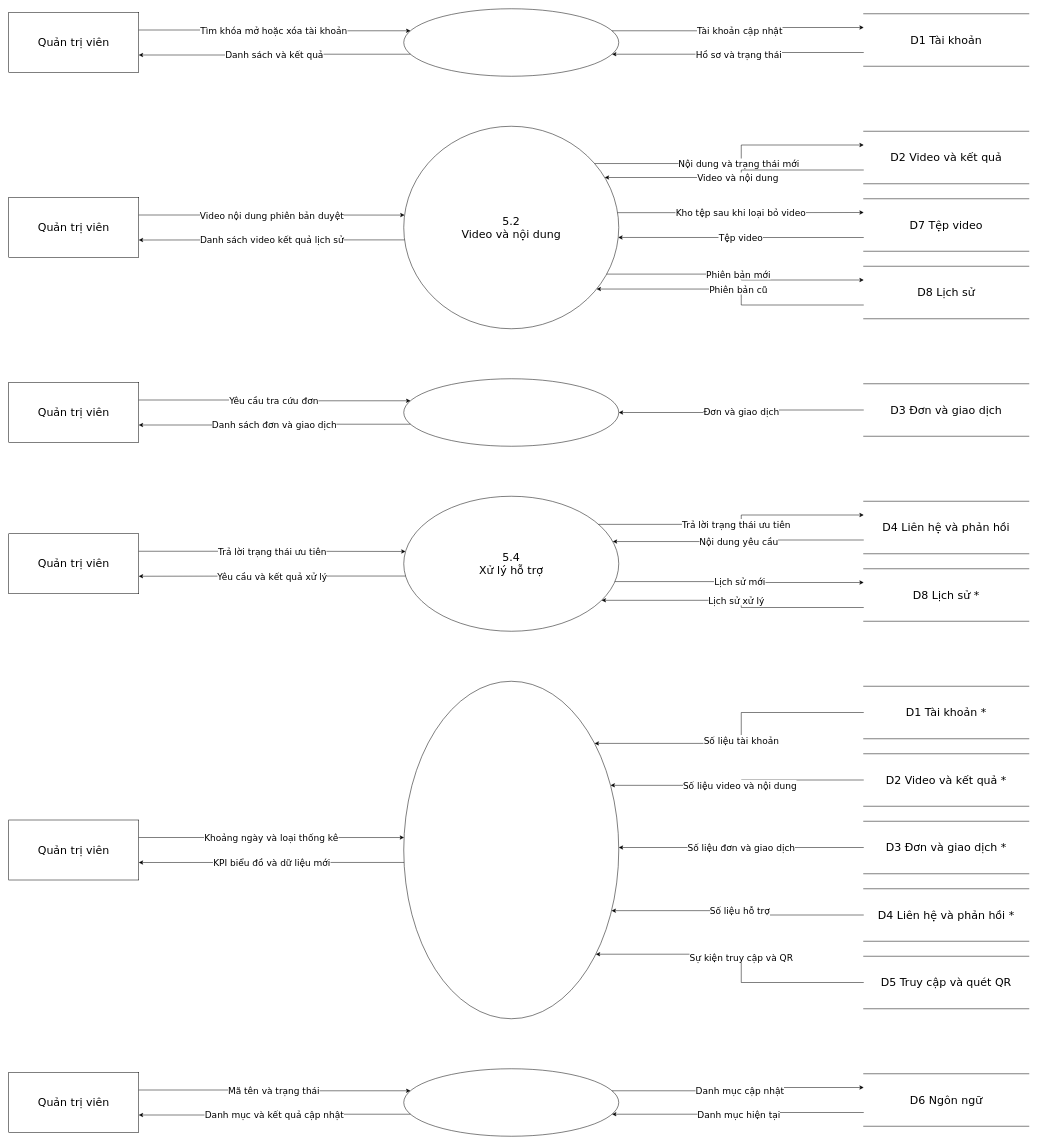
Some shapes in this 1038 by 1145 pixel diagram are drawn without their labels. Here are the shapes that lost their labels. From the top down, the box of each, then its label:
(403, 8, 619, 76): 5.1 Quản lý tài khoản
(403, 378, 619, 446): 5.3 Tra cứu đơn hàng
(403, 681, 619, 1019): 5.5 Tổng hợp thống kê
(403, 1068, 619, 1136): 5.6 Quản lý ngôn ngữ
